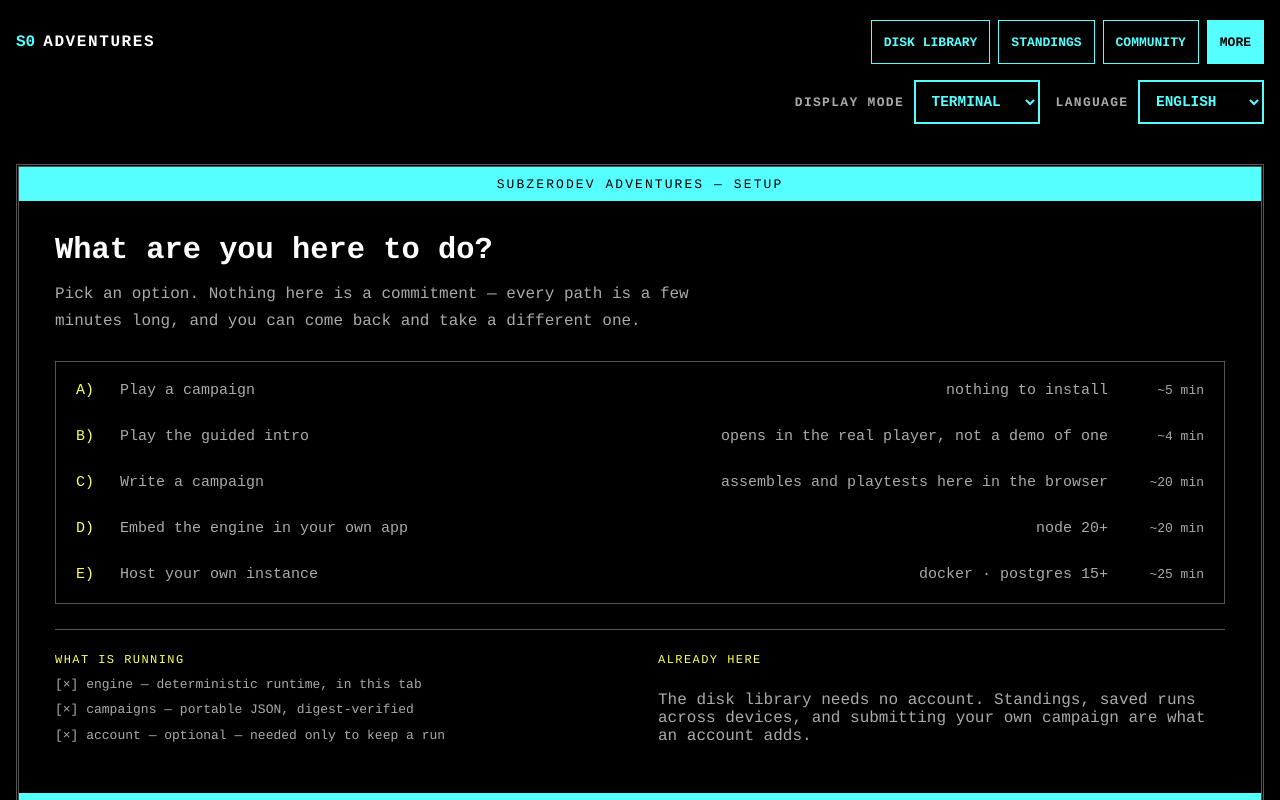
Test: StartPage › stops advancing at the end of a path
Click the button "A) Play a campaign nothing to install ~5 min" at (188, 390), box [62, 368, 1218, 412]
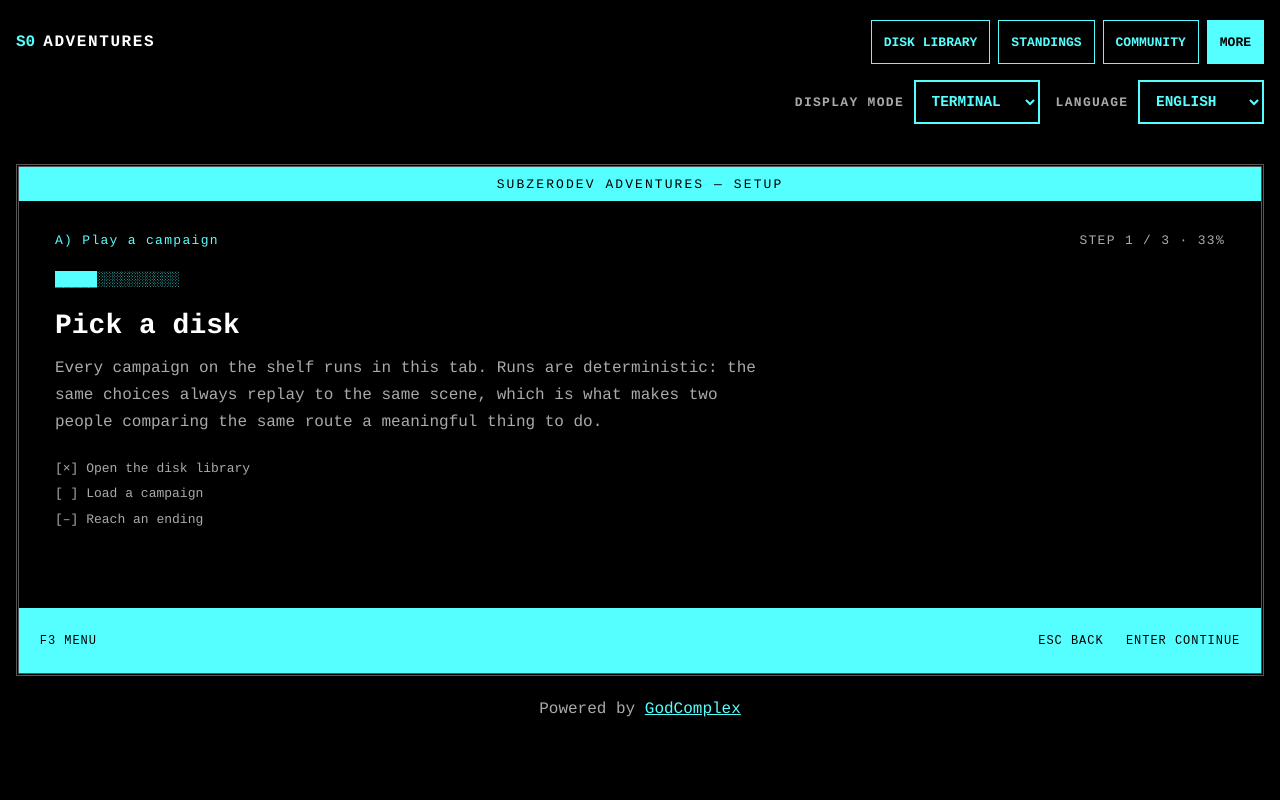
Click the button "ENTER CONTINUE" at (1183, 641), box [1123, 619, 1243, 663]
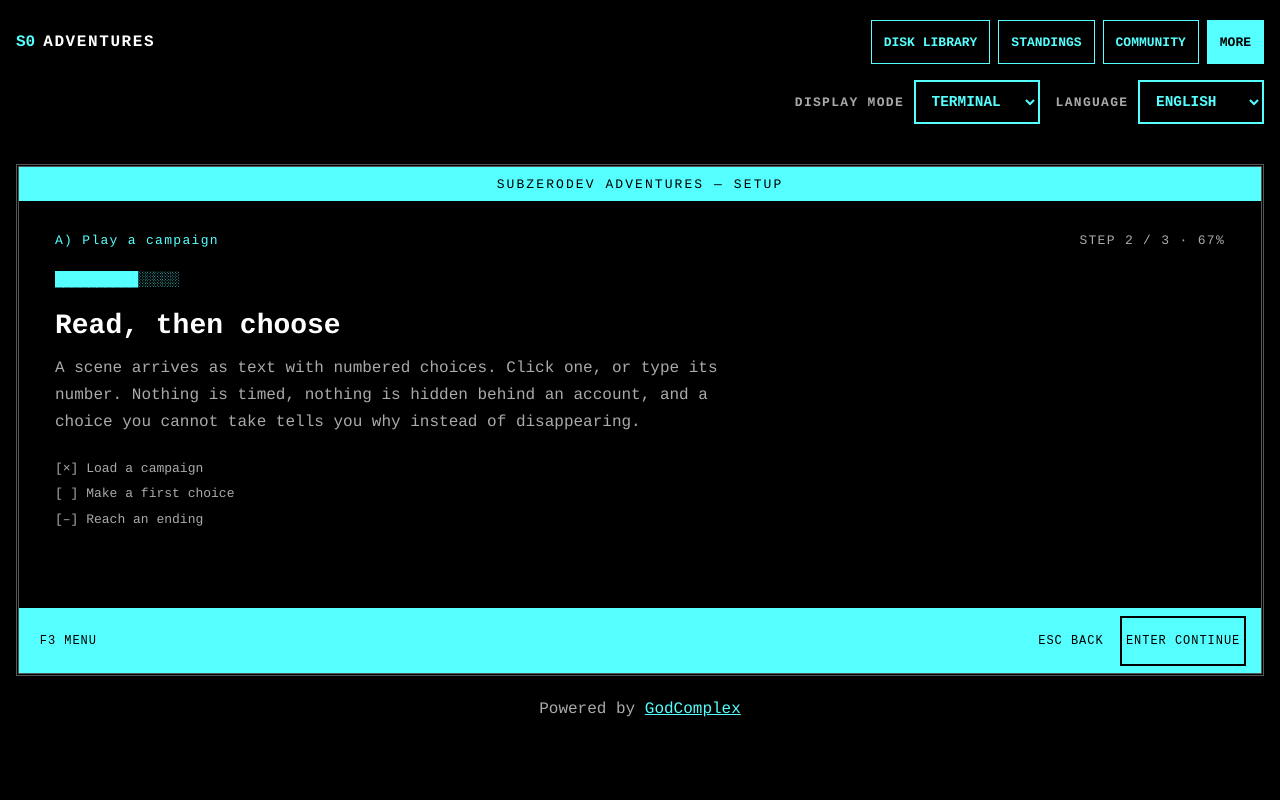
Click the button "ENTER CONTINUE" at (1183, 641), box [1123, 619, 1243, 663]
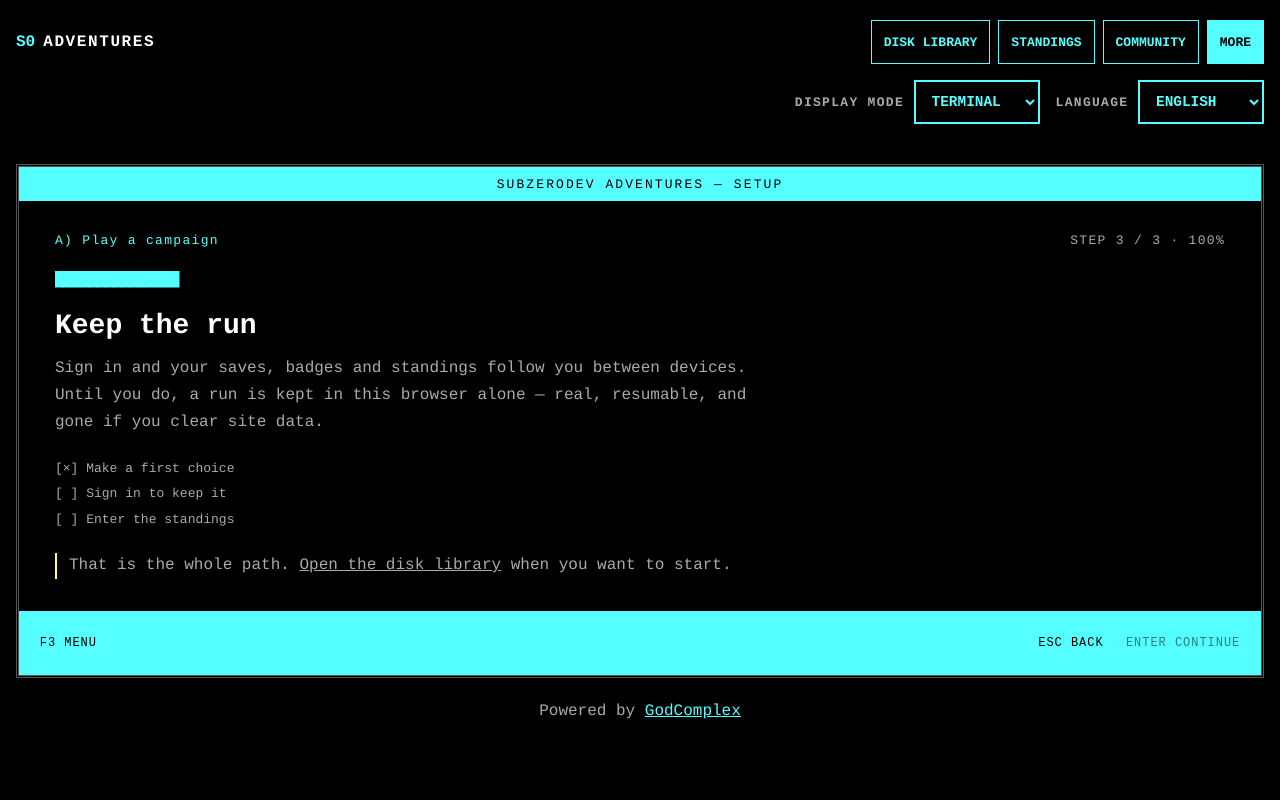
Check: the text "STEP 3 / 3 · 100%" is shown, box [1070, 233, 1225, 248]
Check: the button "ENTER CONTINUE" is disabled, box [1123, 621, 1243, 665]
